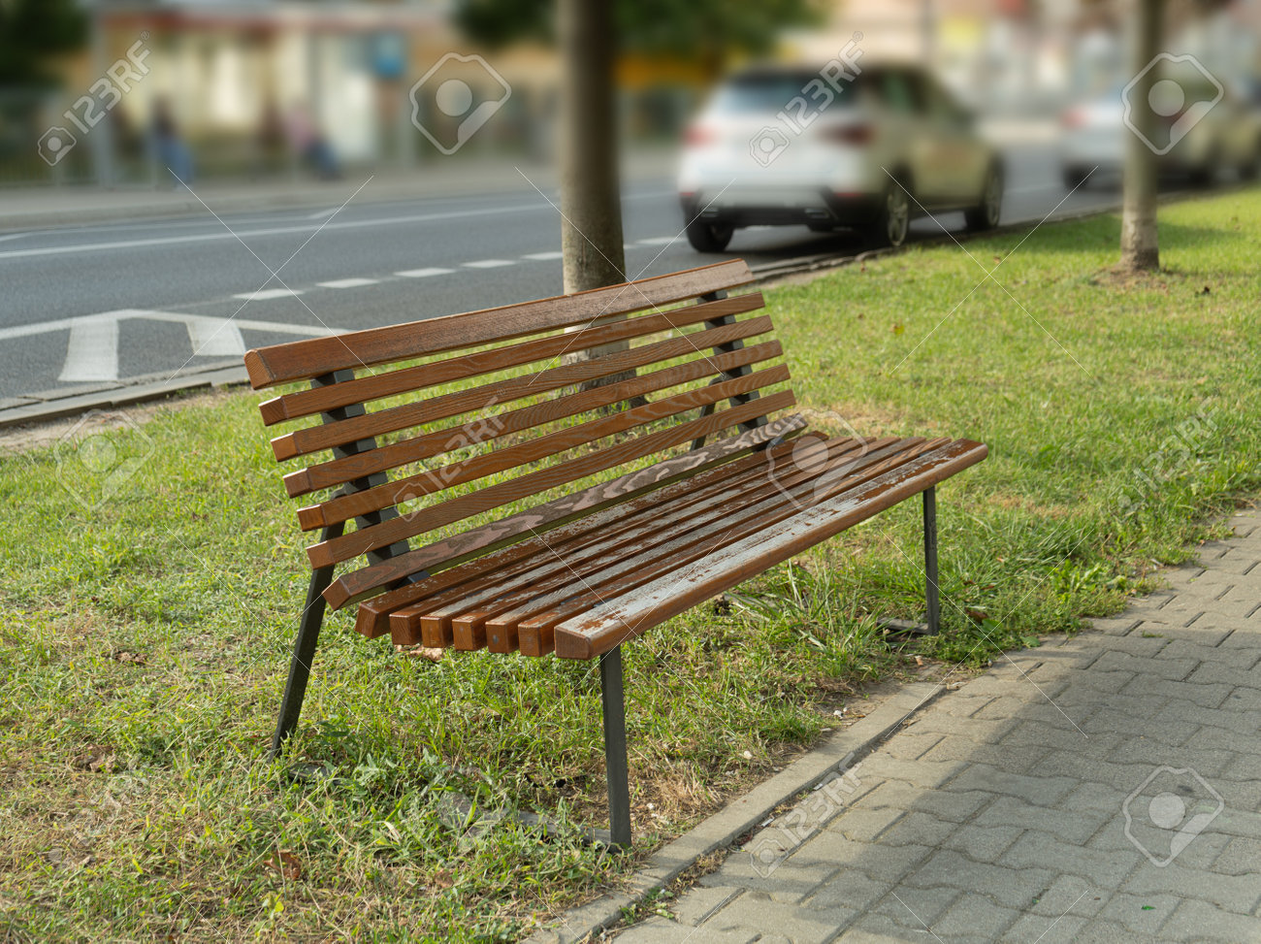Chair: (226, 246, 990, 856)
